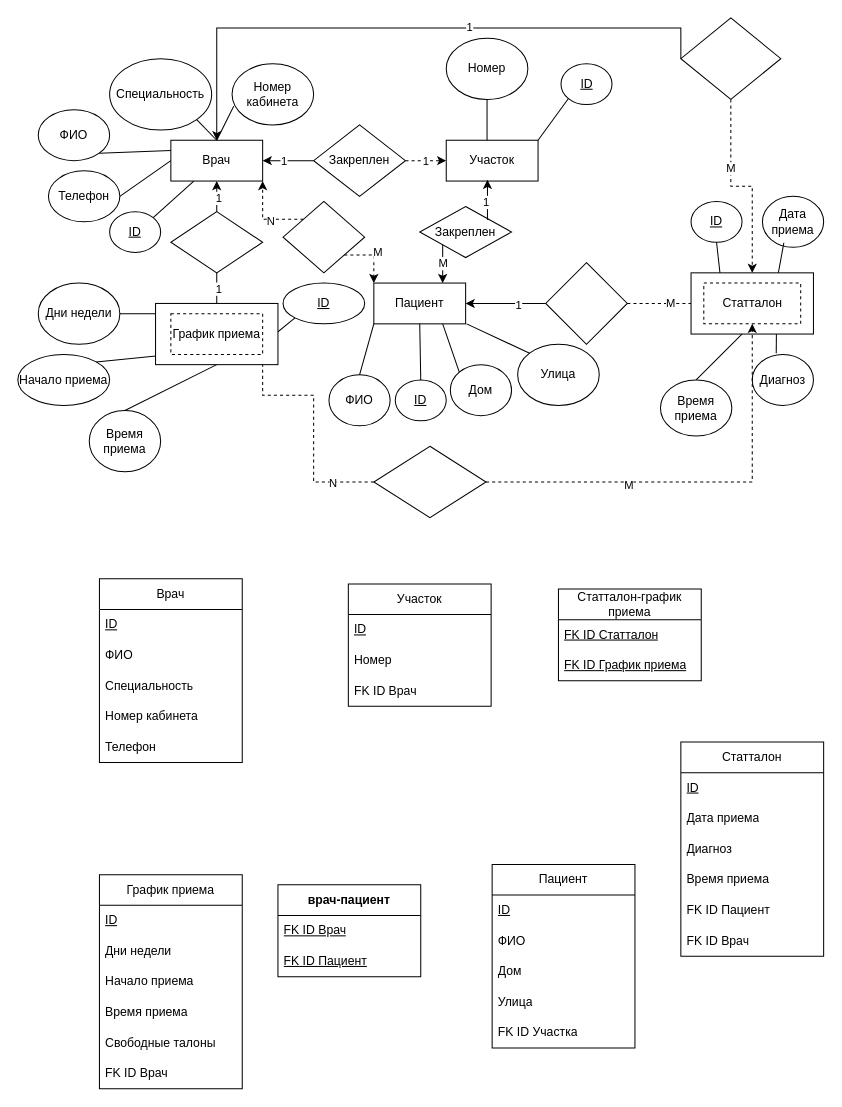
This 842x1107 diagram has some shape labels left out. The centre of each missing label's shape, as x and y in pixels:
"Выдан" goes at (x=586, y=303).
"Выписывает" goes at (x=730, y=58).
"Имеет" goes at (x=216, y=242).
"Имеются свободные" goes at (x=429, y=481).
"Посетил" goes at (x=323, y=236).
